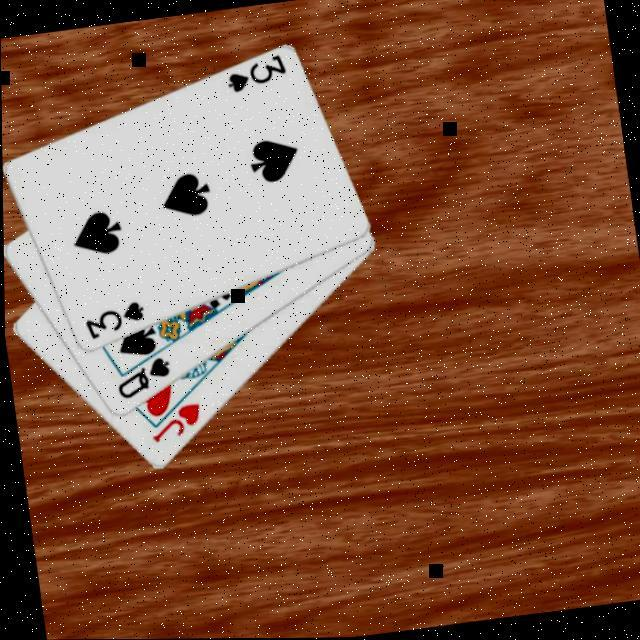3S: (76, 298, 147, 344), (220, 52, 290, 98)
JH: (142, 399, 206, 447)
QS: (108, 354, 174, 404)
